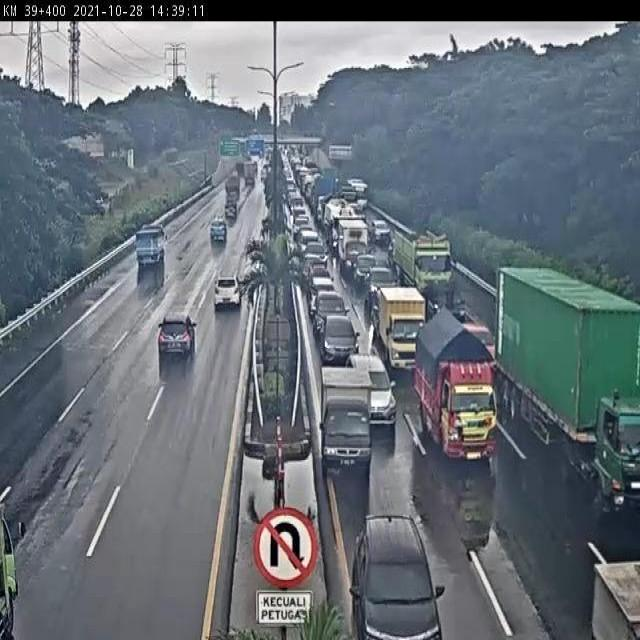big truck: (498, 261, 640, 507), (394, 226, 459, 302)
car: (350, 512, 443, 640), (379, 286, 434, 366), (349, 350, 402, 426), (365, 262, 407, 318), (155, 312, 197, 365), (320, 316, 359, 363), (211, 265, 244, 316), (307, 276, 348, 316), (317, 291, 348, 333), (207, 216, 232, 251)
small truck: (410, 316, 503, 459), (325, 367, 379, 473), (125, 222, 171, 274)
